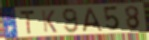5: (102, 5, 122, 33)
8: (124, 5, 142, 31)
9: (61, 7, 79, 34)
A: (82, 7, 105, 33)
K: (40, 9, 59, 34)
T: (19, 9, 36, 36)
